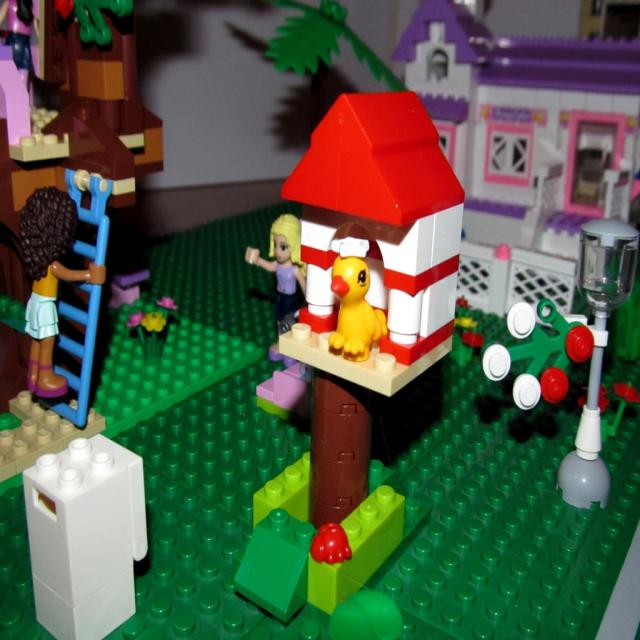Toy: (388, 0, 640, 330), (386, 353, 640, 640), (277, 94, 468, 399), (538, 213, 640, 501), (80, 292, 270, 446), (122, 193, 306, 342), (21, 430, 149, 640), (13, 187, 107, 400), (51, 22, 166, 176), (260, 4, 411, 104), (479, 292, 593, 410), (309, 478, 407, 615), (296, 373, 370, 535), (229, 505, 317, 621), (243, 212, 307, 362), (0, 385, 96, 480), (0, 43, 74, 165), (326, 231, 394, 363), (62, 112, 143, 203), (246, 443, 307, 533), (570, 383, 640, 448), (46, 0, 135, 51), (242, 358, 309, 422), (327, 594, 405, 640), (447, 297, 505, 357), (0, 0, 40, 83), (108, 263, 150, 316), (366, 452, 389, 494)
